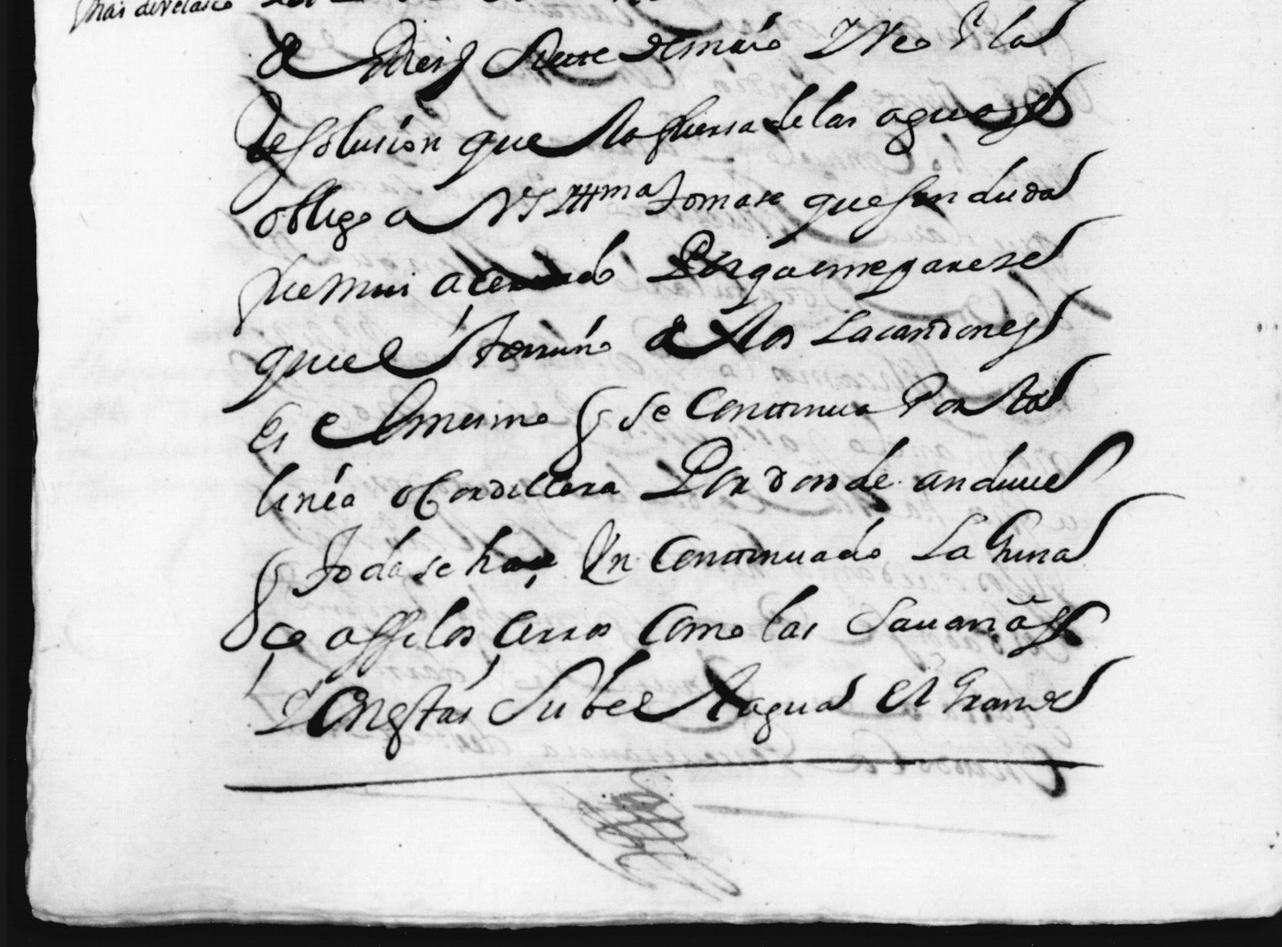lacandon: (810, 286, 1090, 372)
